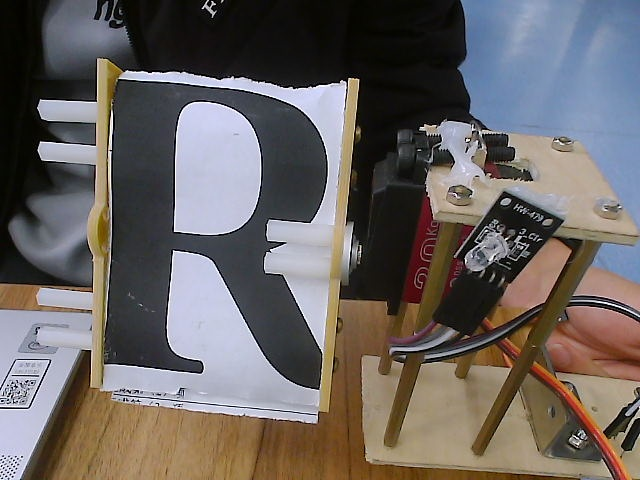R: (28, 47, 389, 440)
